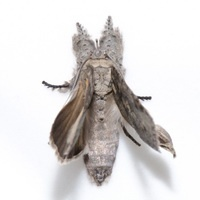insect: (42, 16, 175, 184)
